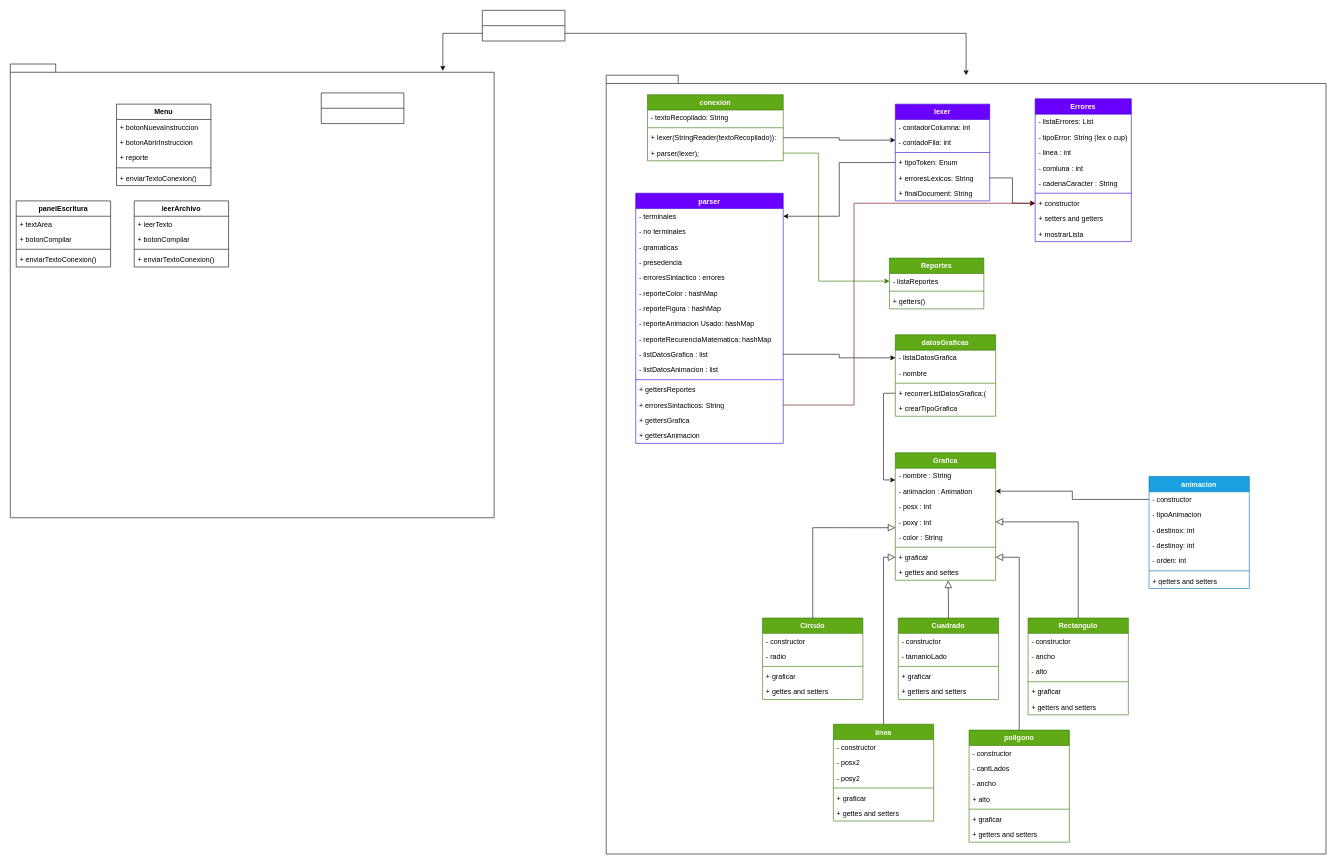
This 1336x864 diagram has some shape labels left out. The centre of each missing label's shape, as x and y in pixels:
"frontEnd" goes at point (362, 108).
"main" goes at point (523, 25).
